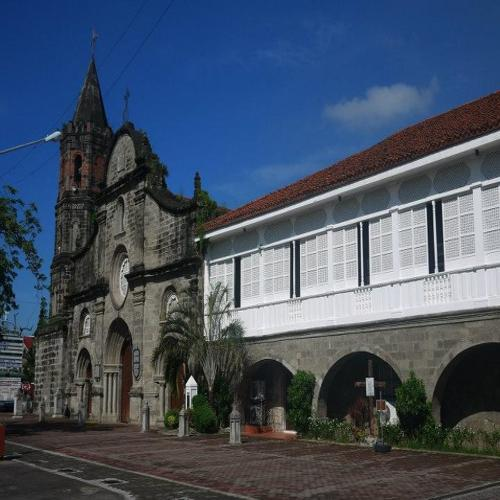Barasoain Church: (19, 28, 206, 428)
